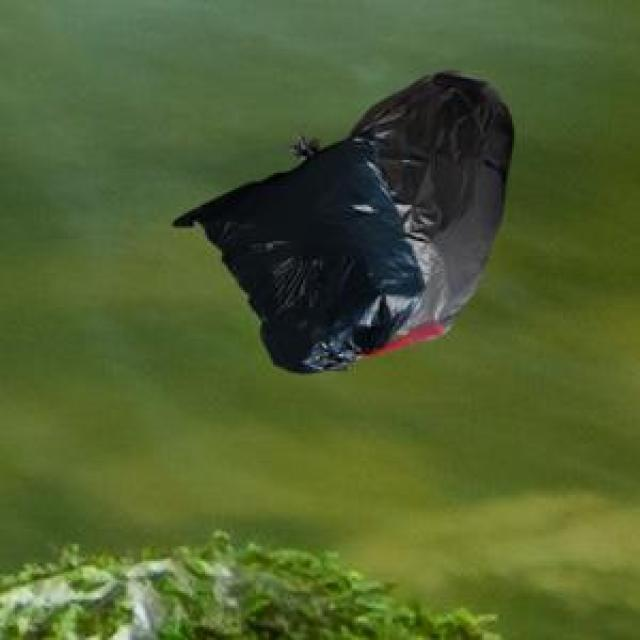Trashbag: (195, 152, 395, 350), (378, 70, 515, 323)
